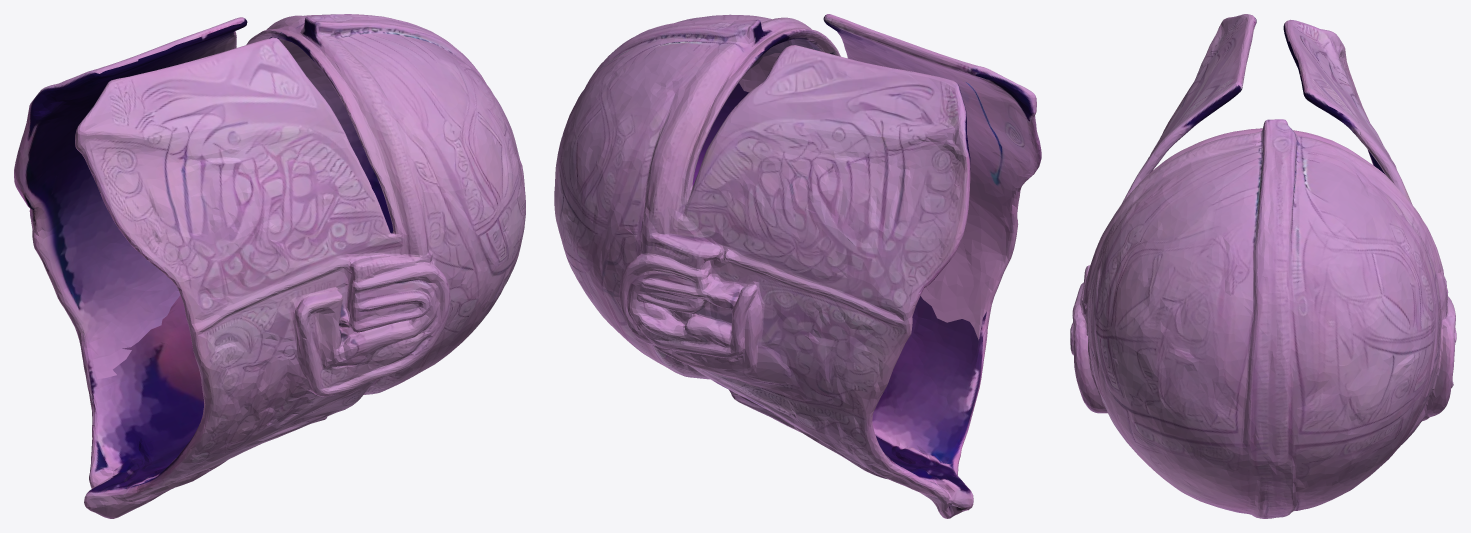
File: purple-mandalorian.glb
The picture shows the model from 3 angles, left to right: view 1: azimuth 30°, elevation 25°; view 2: azimuth 150°, elevation 25°; view 3: azimuth 270°, elevation 25°; orthographic projection. The views are drawn at different scales.
Parts seen in each view (by area): view 1: purple mandalorian_textured.obj; view 2: purple mandalorian_textured.obj; view 3: purple mandalorian_textured.obj.
Part boxes in pixels (x1=…): purple mandalorian_textured.obj: x1=14, y1=14, x2=525, y2=518; purple mandalorian_textured.obj: x1=554, y1=14, x2=1041, y2=518; purple mandalorian_textured.obj: x1=1070, y1=14, x2=1456, y2=518.
Bounding box in the file's own units: 1.99 × 1.97 × 1.48.
Materials: 1 (1 with a texture image).
